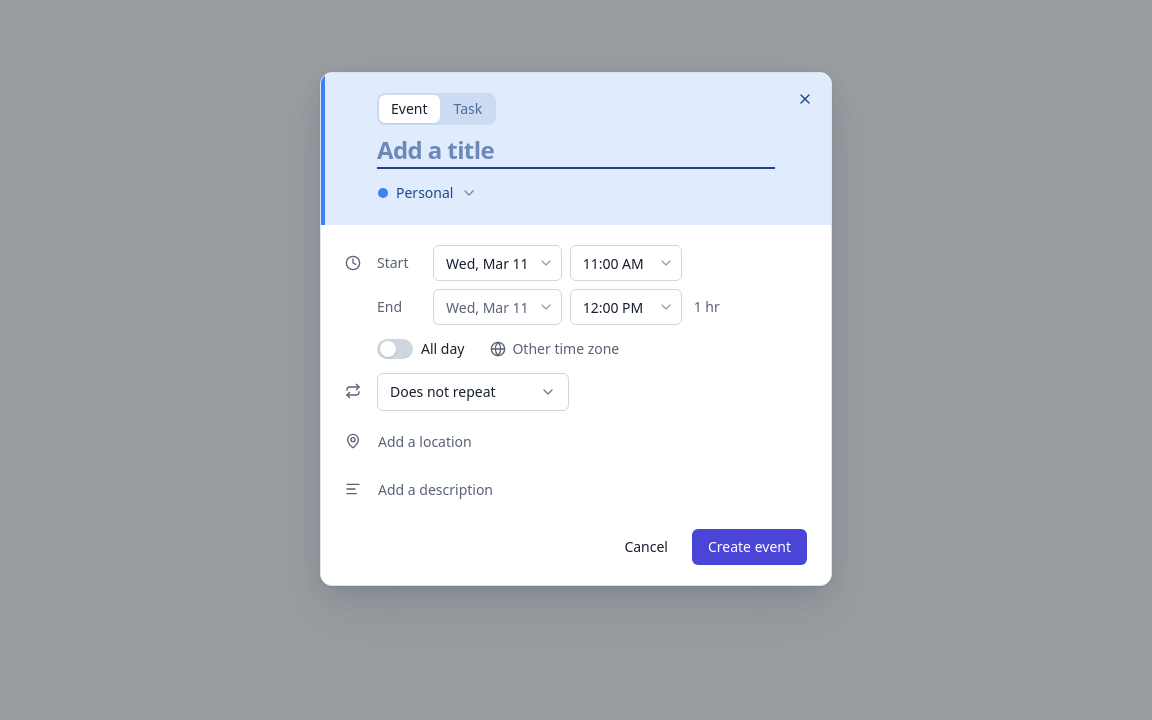
typed times (FR-09) › says it for an end time too, before the end error
The image size is (1152, 720).
Click the dropdown named "End time". click: (626, 307)
box: [570,289,682,325]
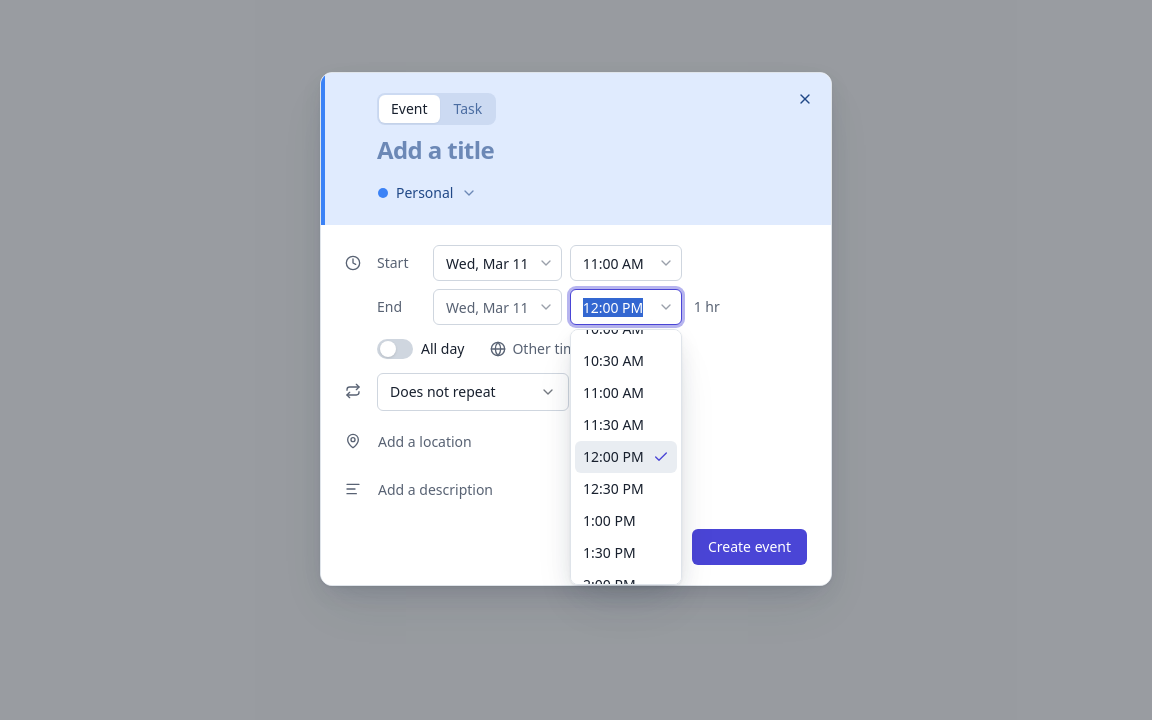
Type keys "noon{Enter}"
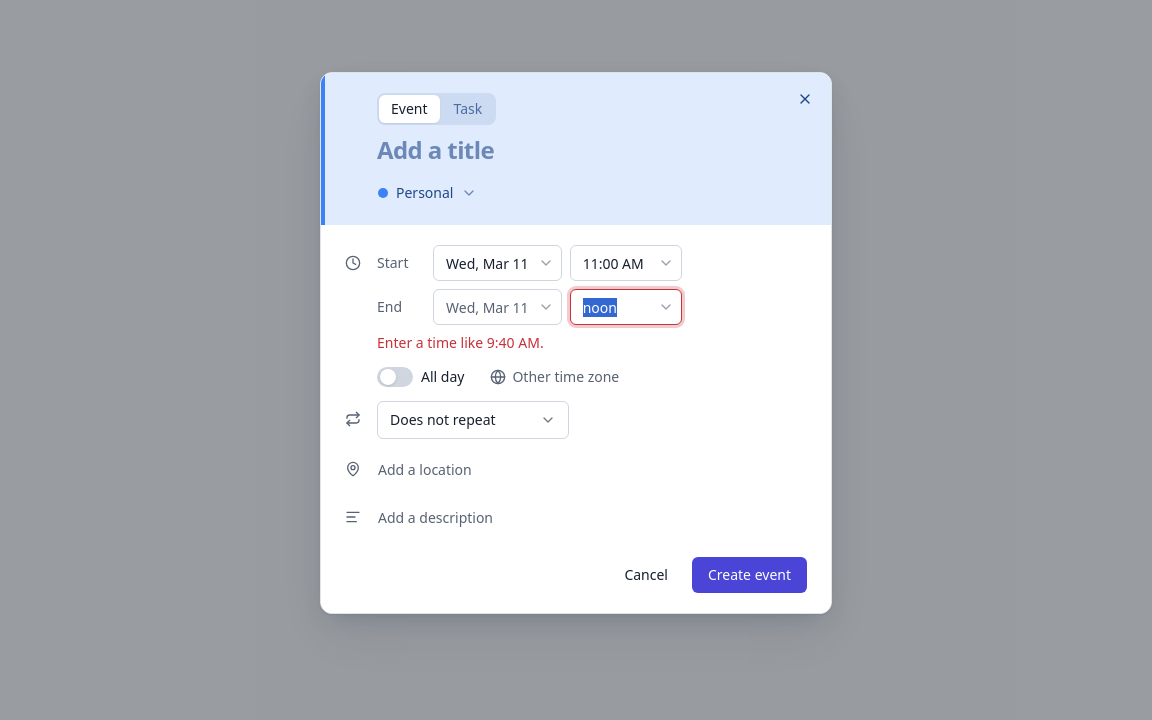
Now the text "Enter a time like 9:40 AM." is shown, box [377,333,544,352]
